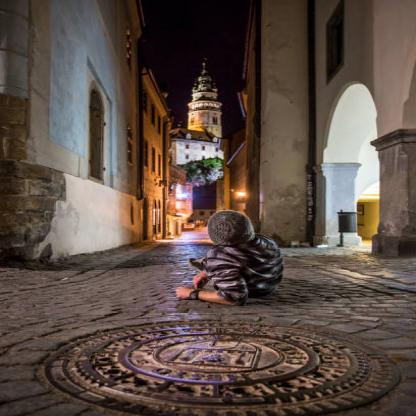manholes: (29, 304, 408, 416)
